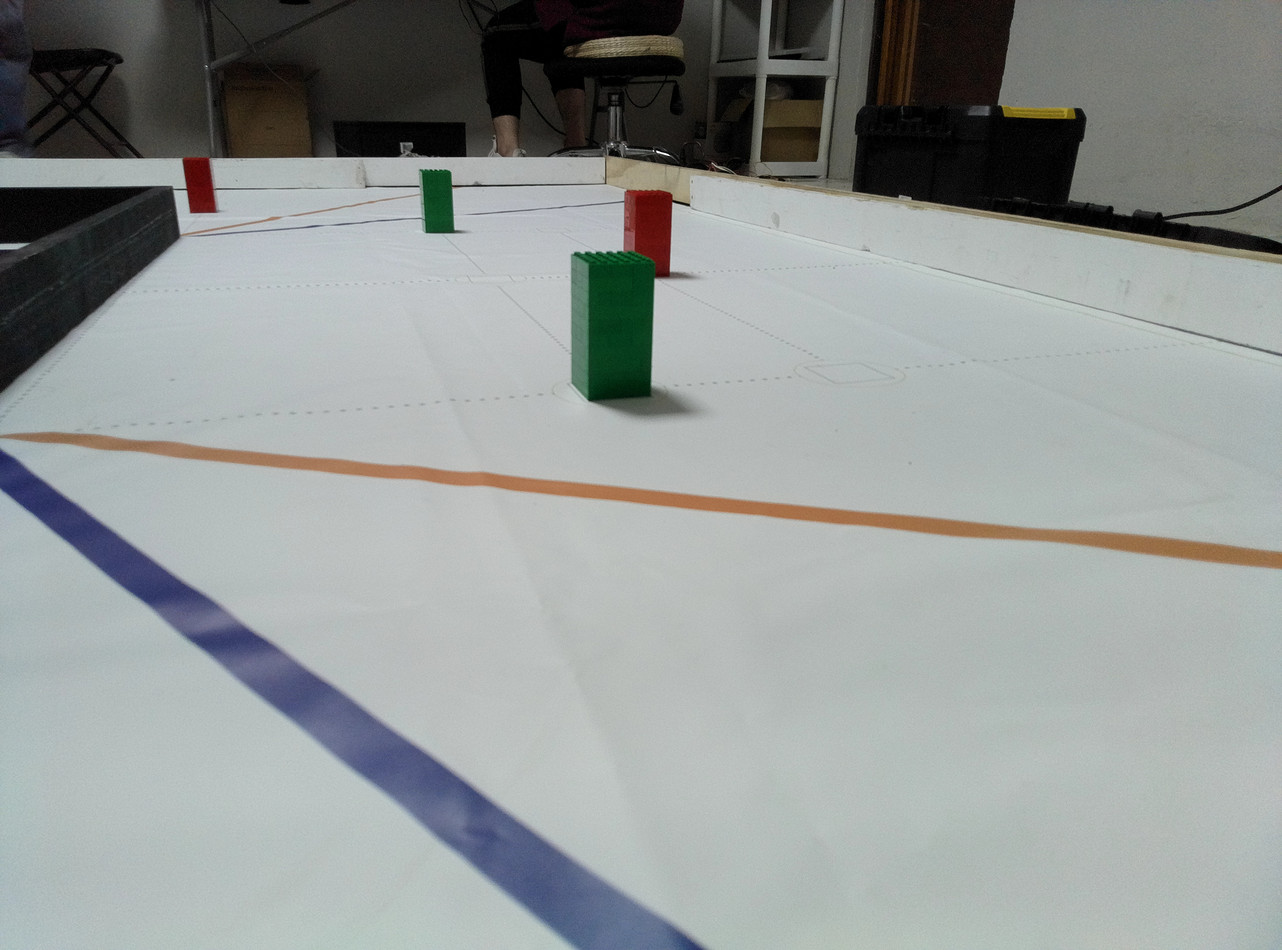greenbox: (569, 252, 651, 408), (420, 168, 458, 230)
redbox: (623, 189, 671, 278), (183, 156, 218, 214)
